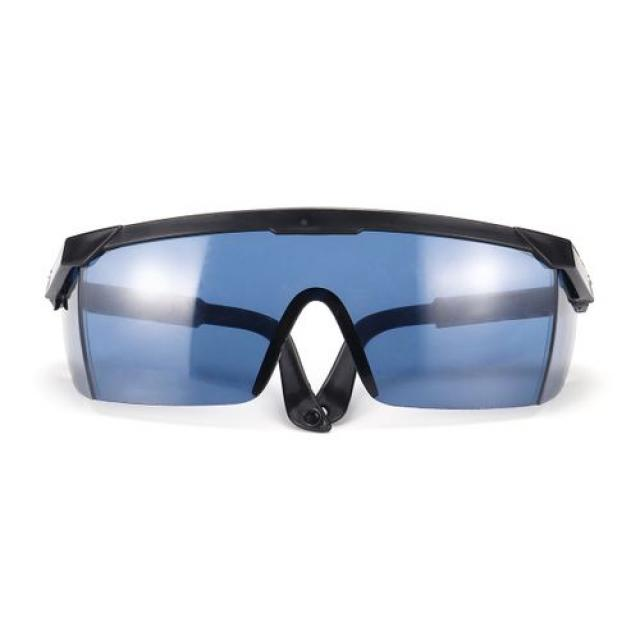Protective Glasses: (9, 125, 628, 515)
